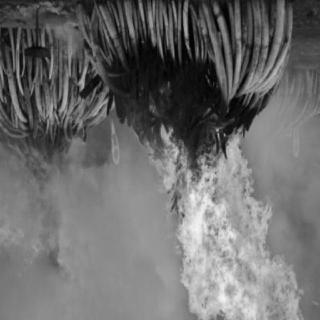Fire: (127, 86, 309, 320), (5, 169, 77, 283)
